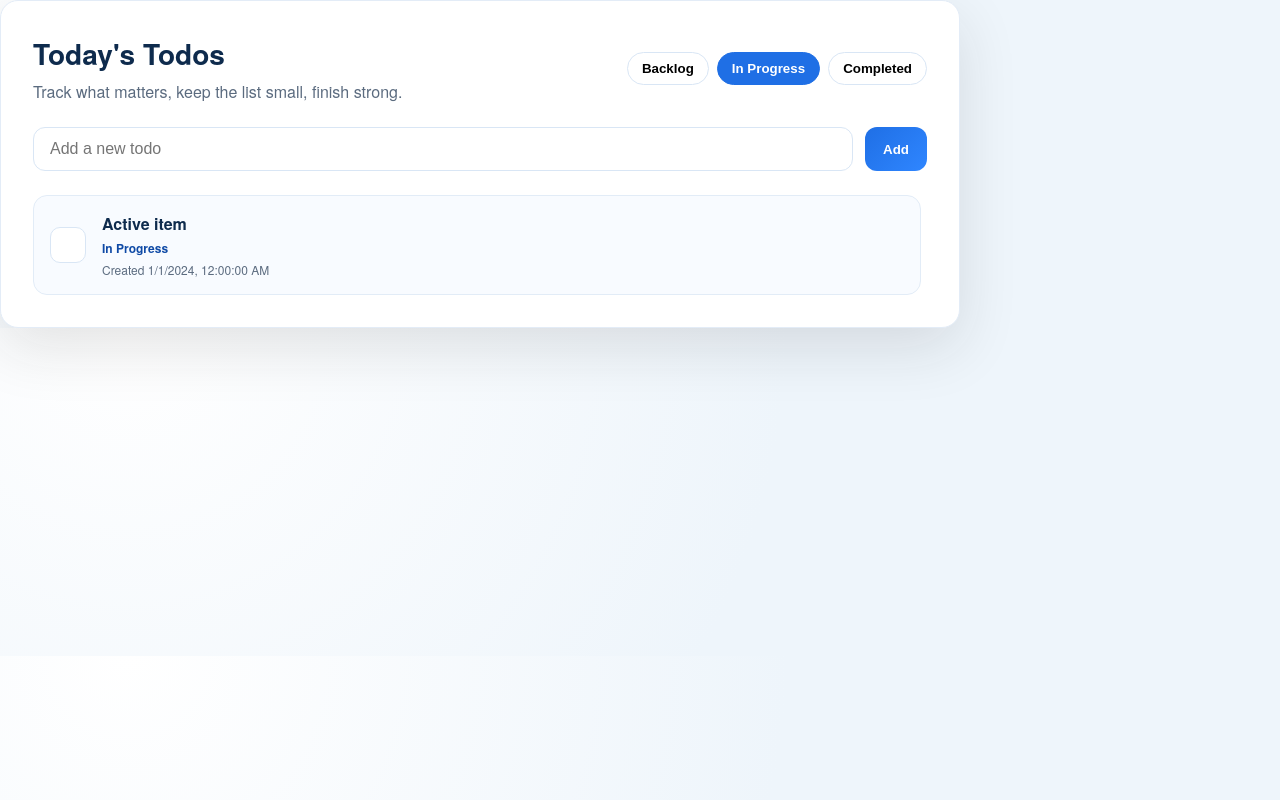
TodosPage › filters active and done todos
Expected: the text "Active item" is shown, left=102, top=212, right=187, bottom=235
Expected: the text "Done item" is not shown
Click the button "In Progress" at [768, 68], box left=717, top=52, right=820, bottom=84
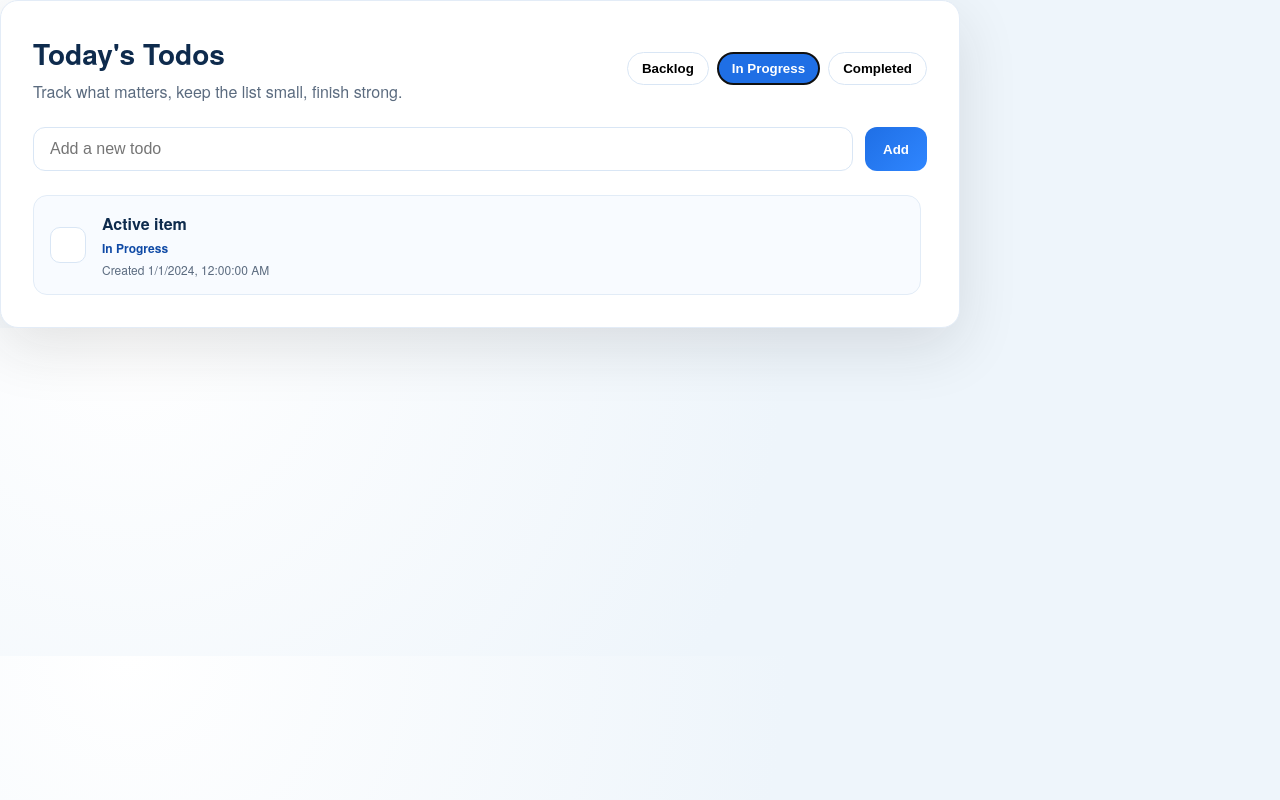
Expected: the text "Active item" is shown, left=102, top=212, right=187, bottom=235
Expected: the text "Done item" is not shown
Click the button "Completed" at [878, 68], box left=828, top=52, right=927, bottom=84
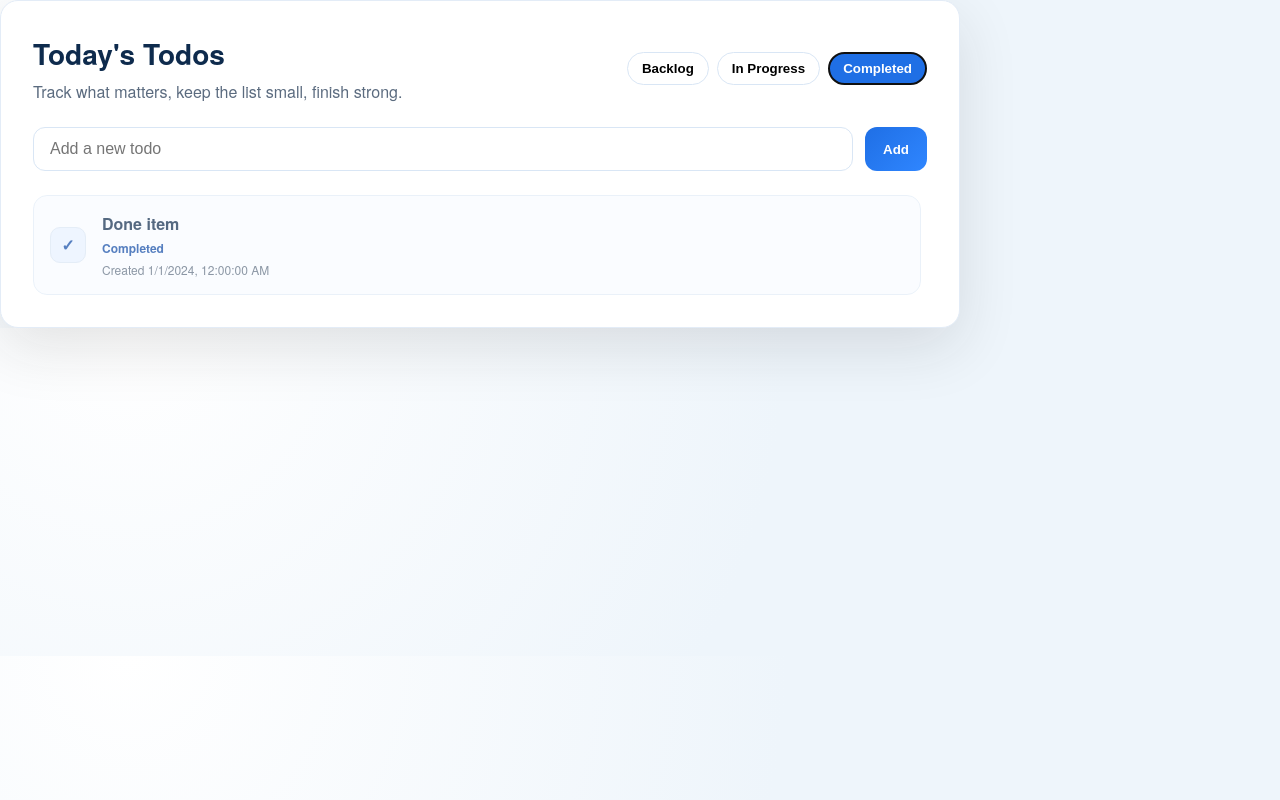
Expected: the text "Backlog item" is not shown
Result: the text "Active item" is gone
Result: the text "Done item" is shown at left=102, top=212, right=179, bottom=235
Click the button "Backlog" at [668, 68], box left=627, top=52, right=709, bottom=84
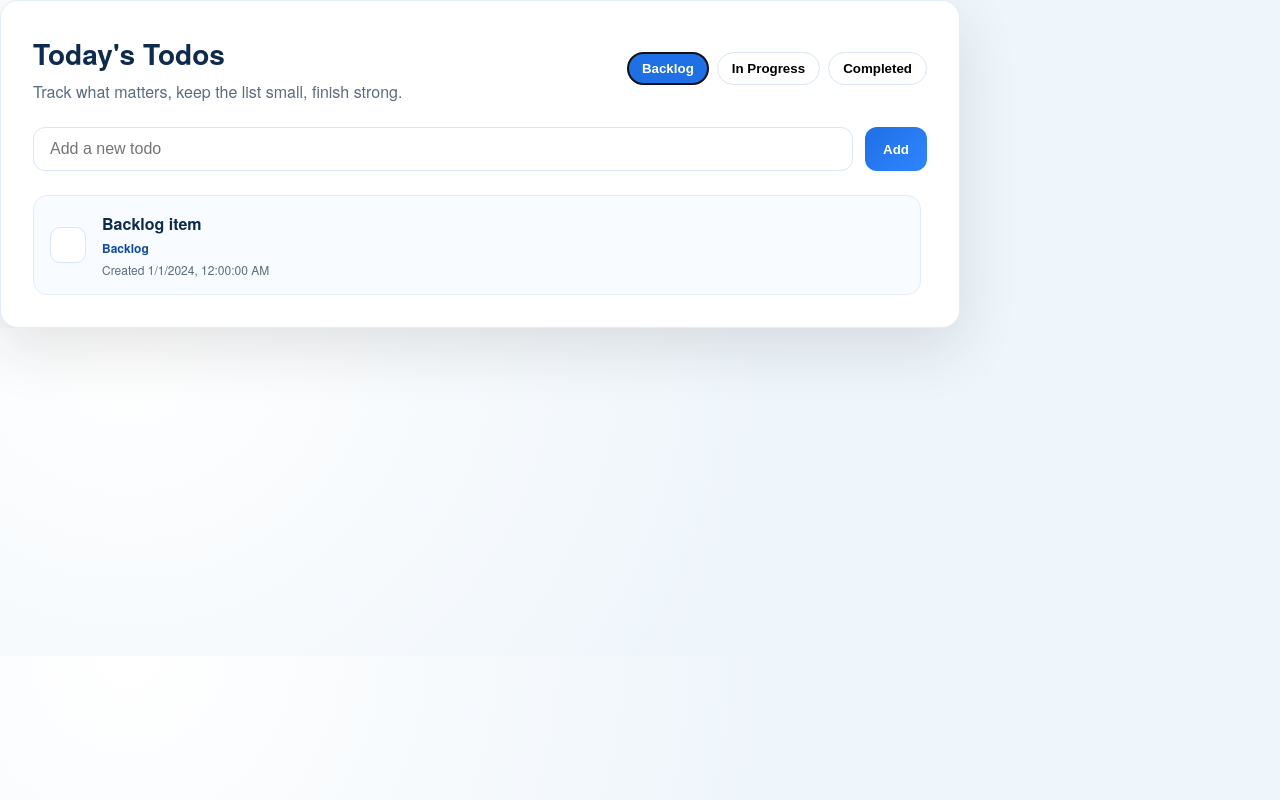
Expected: the text "Active item" is not shown
Result: the text "Done item" is gone
Result: the text "Backlog item" is shown at left=102, top=212, right=202, bottom=235
